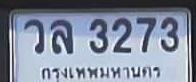2: (112, 17, 131, 52)
3: (160, 16, 178, 51), (89, 18, 107, 52)
7: (136, 16, 155, 52)
A36: (50, 19, 72, 53)
A37: (23, 18, 43, 53)
BKK: (39, 63, 163, 82)
